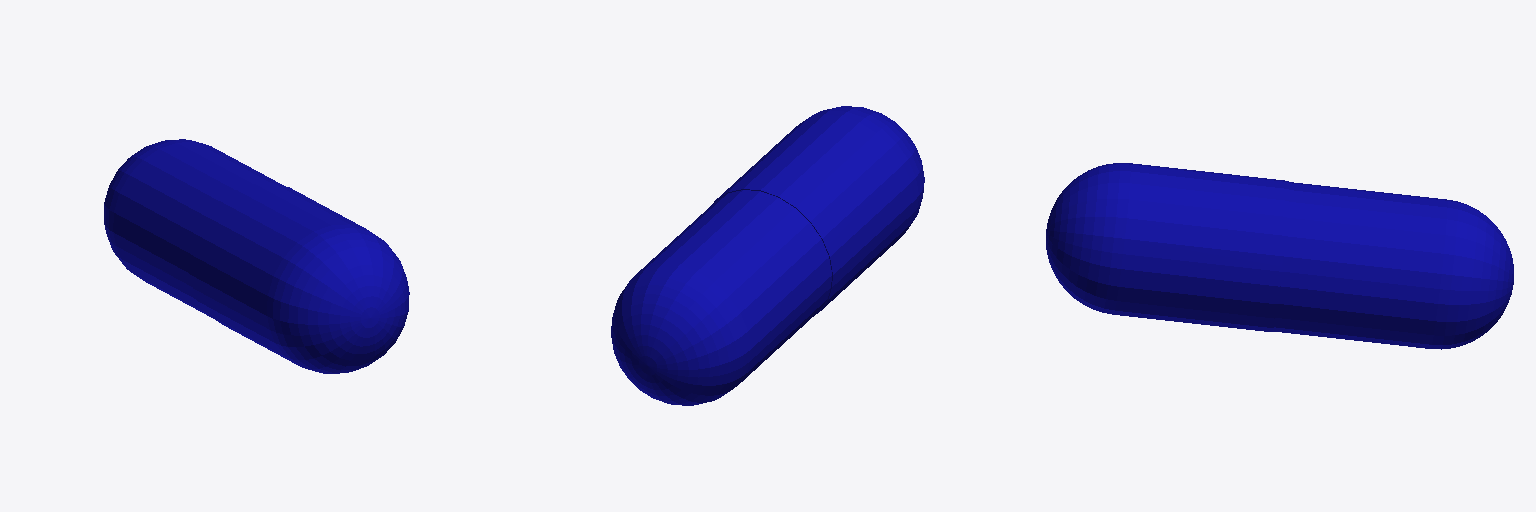
The model's file is bala.obj.
3 views of the same model, side by side, from view 1: azimuth 30°, elevation 25°; view 2: azimuth 150°, elevation 25°; view 3: azimuth 270°, elevation 25° (orthographic).
Visible parts, largest first — view 1: Object034; view 2: Object034; view 3: Object034.
Boxes of the visible parts, x1=… form: Object034: x1=104, y1=139, x2=409, y2=373; Object034: x1=611, y1=106, x2=924, y2=405; Object034: x1=1046, y1=163, x2=1513, y2=349.
Size of the model in its own units: 4.64 by 5.6 by 13.93.